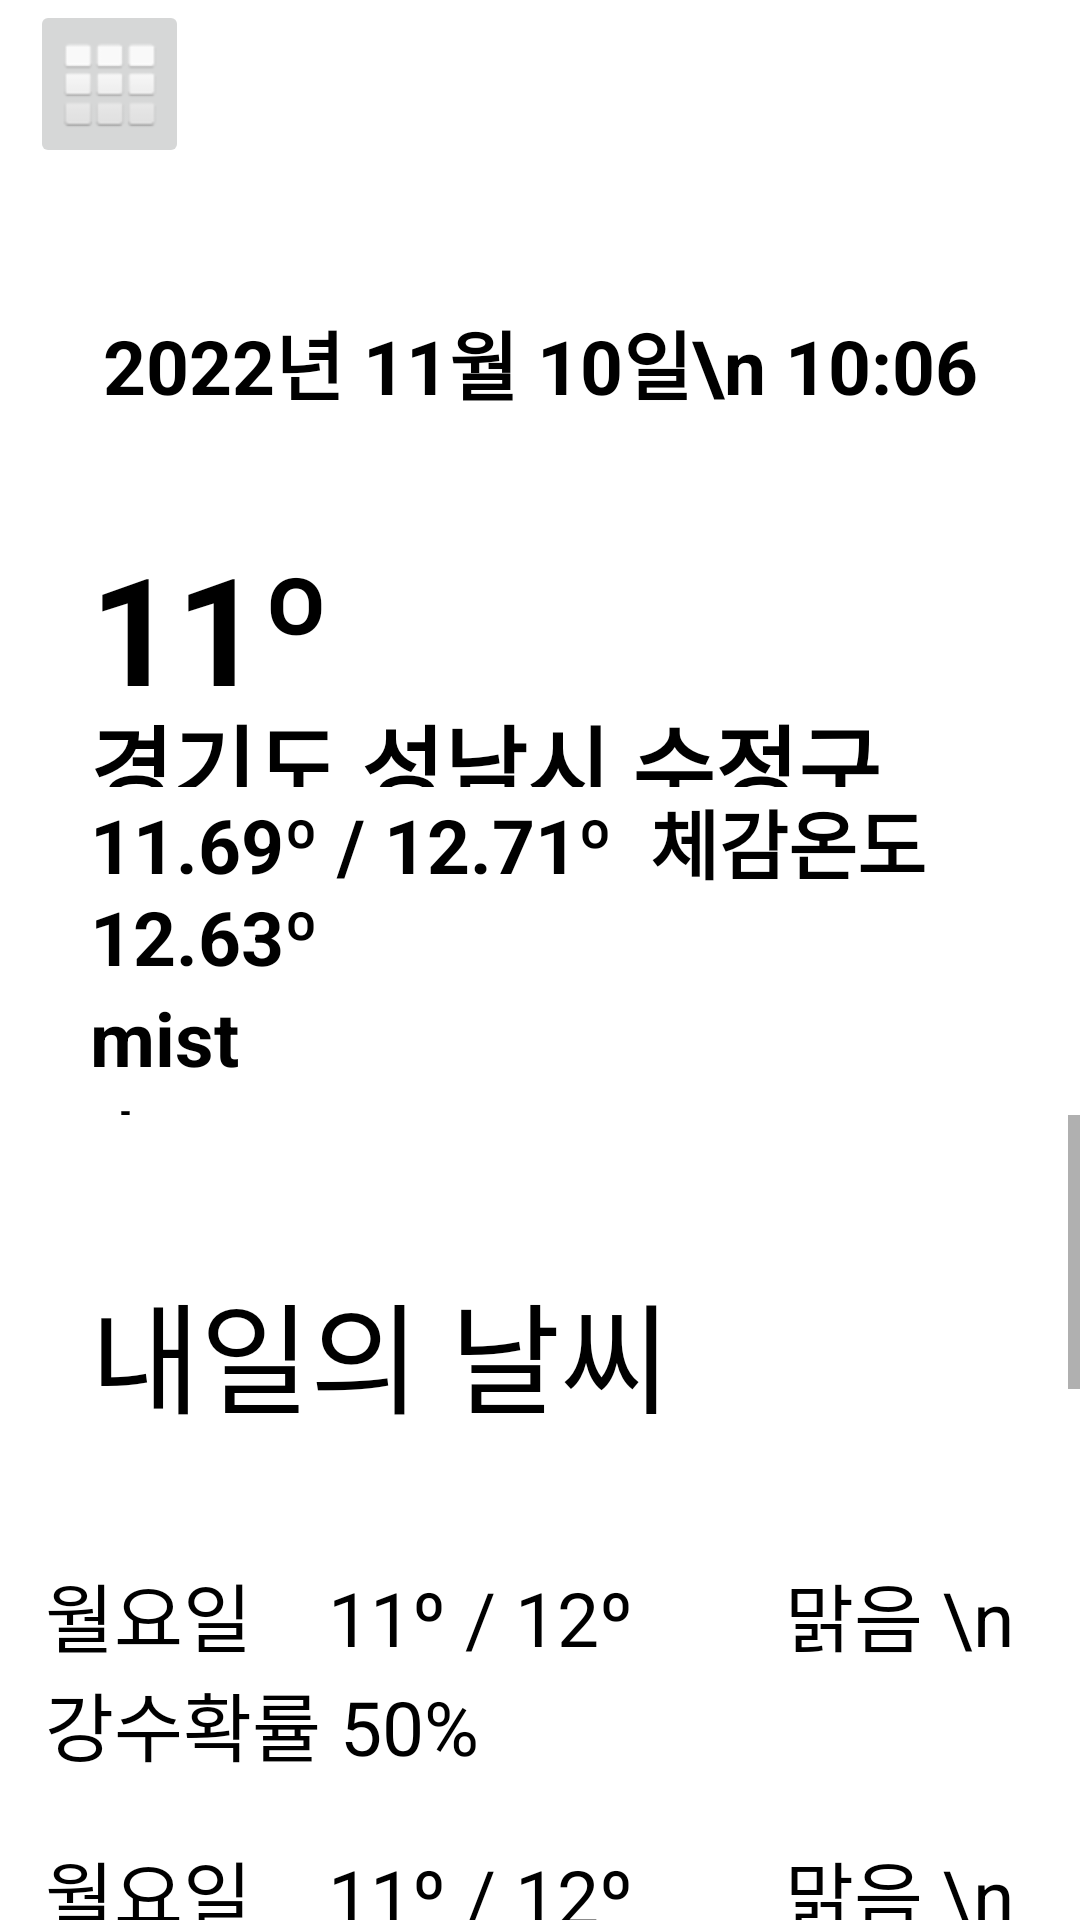

Where icons sit on this 1080 x 1920 app screen, as (x1, y1, x2, y2):
dialer: (42, 18, 177, 150)
